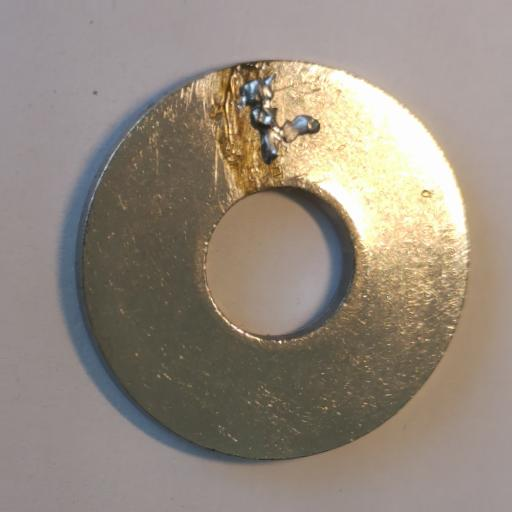excess_material: (237, 73, 319, 165)
